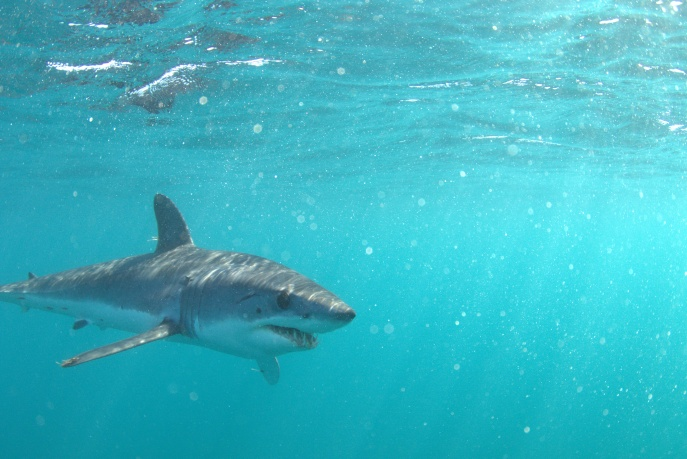Mako: (1, 186, 368, 396)
